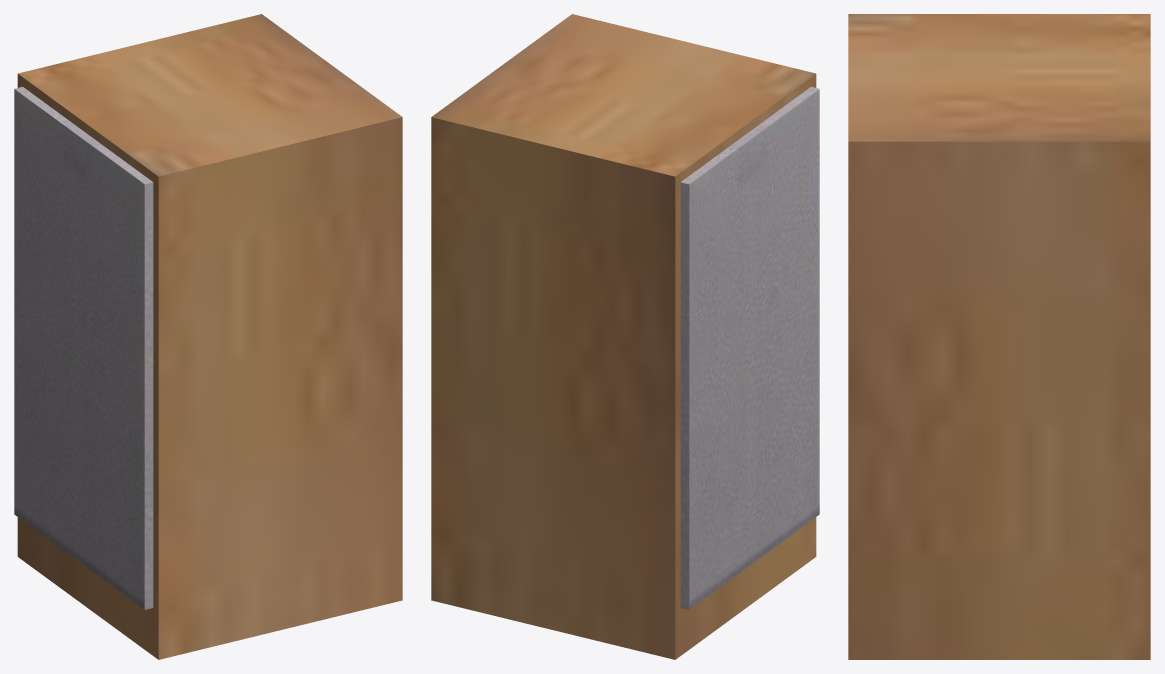
Rendered from kolonka1.fbx.
3 views of the same model, side by side, from view 1: azimuth 30°, elevation 25°; view 2: azimuth 150°, elevation 25°; view 3: azimuth 270°, elevation 25° (orthographic). The views are drawn at different scales.
Visible parts, largest first — view 1: Cube; view 2: Cube; view 3: Cube.
Part boxes in pixels (x1,y1,x2,y2): Cube: [14, 14, 402, 659]; Cube: [431, 14, 819, 659]; Cube: [848, 14, 1150, 659].
Size of the model in its own units: 44.74 by 81.76 by 43.21.
Materials: 1 (1 with a texture image).
